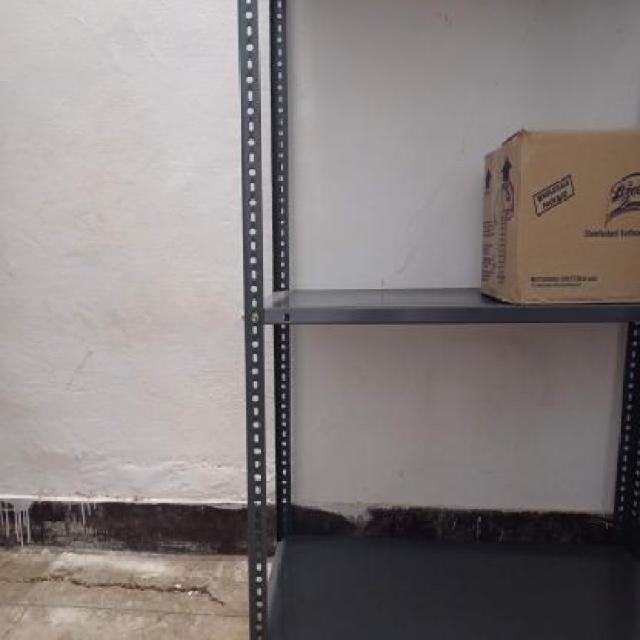box: (514, 130, 640, 302)
